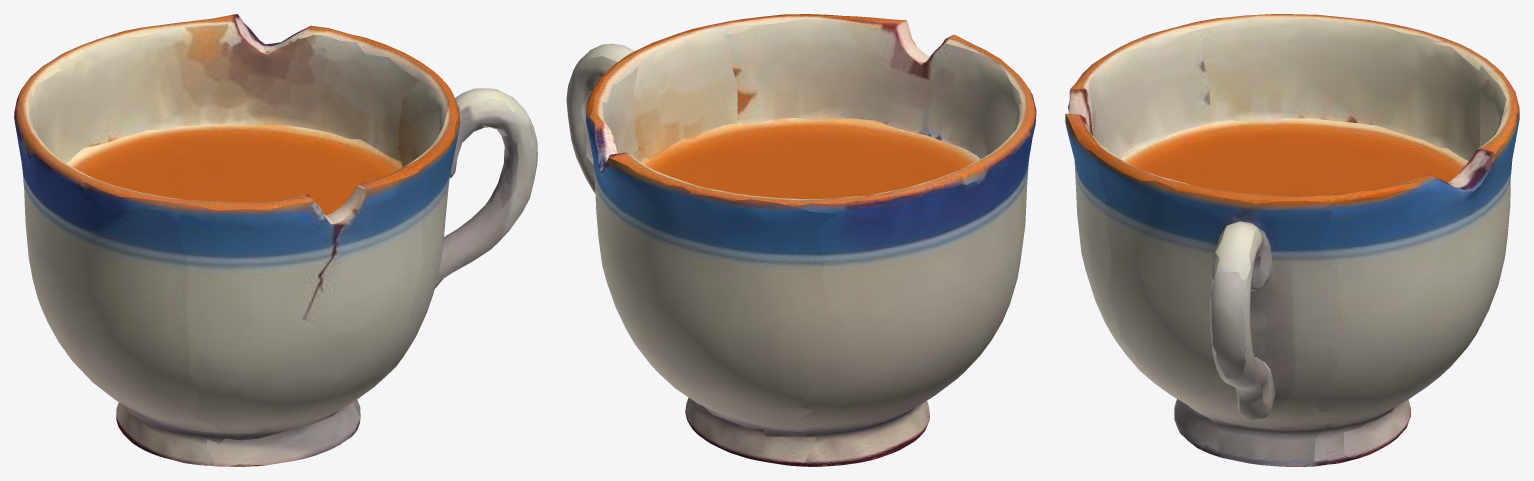
Rendered from teacup.glb.
3 renders of one model, left to right at view 1: azimuth 30°, elevation 25°; view 2: azimuth 150°, elevation 25°; view 3: azimuth 270°, elevation 25°, orthographic.
Visible parts, largest first — view 1: item_teacup; view 2: item_teacup; view 3: item_teacup.
Boxes of the visible parts, x1,y1,x2,y2 form: item_teacup: (14, 14, 537, 466); item_teacup: (566, 14, 1036, 466); item_teacup: (1065, 14, 1519, 466).
Bounding box in the file's own units: 1 × 0.6406 × 0.8497.
Materials: 1 (1 with a texture image).
